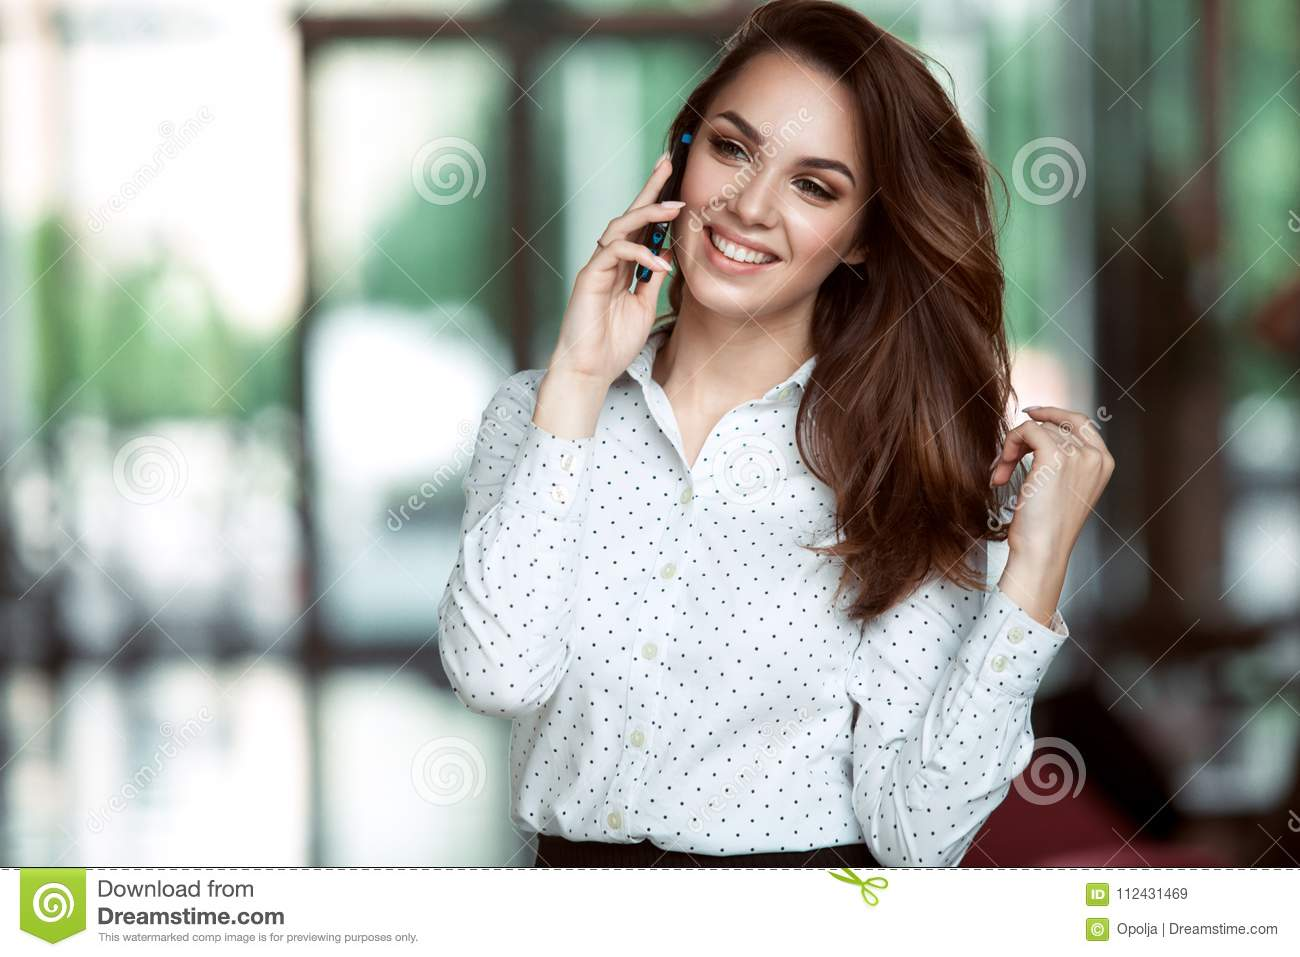phone: (632, 113, 701, 288)
talk: (550, 97, 860, 406)
